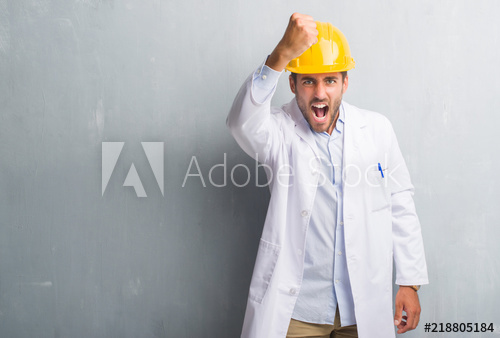Person_wearing_helmet: (272, 12, 352, 88)
